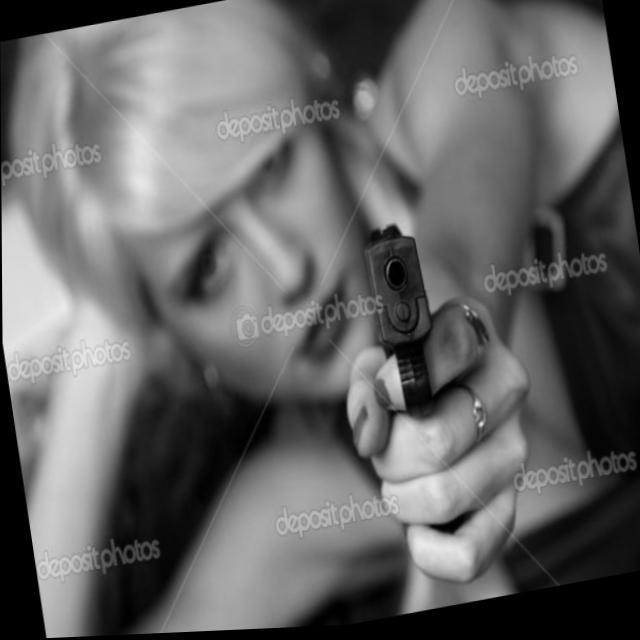weapon: (356, 220, 448, 430)
